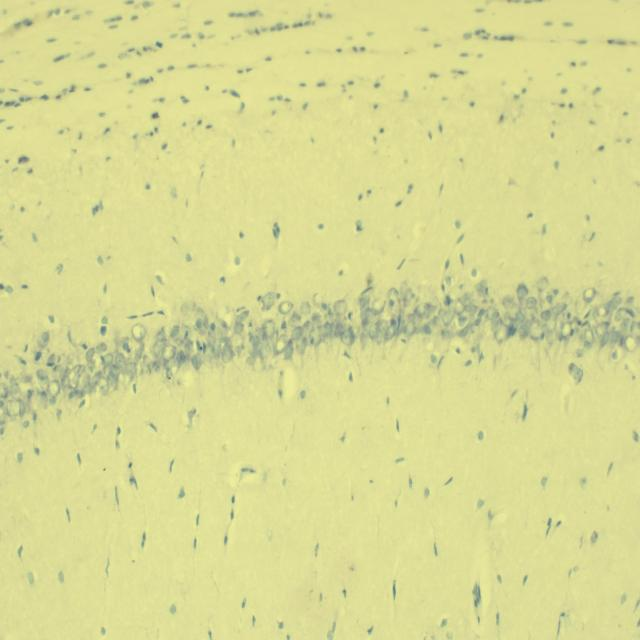neuron: (386, 287, 402, 317), (260, 336, 275, 363), (607, 326, 620, 351), (624, 333, 640, 353), (124, 358, 139, 379), (274, 334, 289, 355), (375, 322, 388, 346), (364, 307, 378, 329), (494, 323, 509, 343), (46, 380, 62, 398), (231, 332, 244, 354), (106, 370, 118, 393), (252, 351, 264, 374), (131, 323, 146, 341), (262, 291, 276, 310), (371, 296, 385, 315), (115, 352, 126, 376), (204, 325, 216, 347), (529, 318, 541, 340), (138, 361, 153, 378), (459, 324, 474, 341), (216, 321, 227, 344), (162, 344, 176, 362), (221, 342, 233, 363), (250, 327, 262, 348), (452, 299, 466, 317), (507, 303, 521, 321), (569, 362, 583, 380), (595, 320, 609, 338), (68, 370, 80, 390), (296, 337, 308, 357), (309, 325, 321, 345), (333, 300, 348, 316), (432, 314, 442, 338), (576, 292, 586, 316), (262, 320, 276, 337), (341, 328, 354, 346), (61, 368, 72, 389), (6, 399, 18, 418), (301, 320, 313, 339), (415, 302, 430, 317), (36, 375, 50, 391), (490, 316, 503, 333), (98, 376, 110, 394), (284, 338, 293, 362), (549, 304, 567, 316), (560, 321, 572, 339), (181, 300, 195, 315), (235, 310, 250, 324), (278, 300, 293, 314), (465, 301, 479, 316), (629, 320, 640, 339), (157, 326, 170, 342), (311, 292, 324, 308), (440, 328, 456, 341), (192, 353, 204, 370), (196, 307, 208, 324), (332, 322, 344, 339), (384, 324, 396, 341), (545, 316, 557, 333), (442, 296, 456, 310), (614, 307, 628, 321), (442, 311, 455, 326), (404, 321, 416, 337), (476, 280, 488, 296), (176, 350, 186, 369), (10, 383, 21, 400), (517, 284, 528, 301), (290, 327, 304, 340), (535, 277, 549, 290), (596, 304, 609, 318), (122, 371, 134, 386), (169, 361, 179, 379), (212, 338, 221, 358), (289, 312, 301, 327), (369, 321, 379, 339), (403, 288, 412, 308), (502, 294, 514, 309), (545, 329, 557, 344), (38, 332, 49, 348), (109, 364, 120, 380), (400, 280, 408, 302), (86, 361, 96, 378), (584, 328, 594, 345), (299, 301, 312, 314), (486, 307, 499, 320), (540, 300, 553, 313), (360, 332, 368, 353), (584, 288, 596, 302), (538, 288, 550, 302), (169, 325, 180, 340), (184, 339, 193, 357), (323, 320, 332, 338), (52, 364, 62, 380), (330, 319, 338, 339), (518, 322, 528, 338), (74, 364, 86, 377), (101, 353, 114, 365), (358, 295, 370, 308), (619, 318, 631, 331), (0, 382, 9, 399), (46, 351, 55, 368), (24, 400, 34, 415), (92, 371, 102, 386), (18, 399, 26, 417), (526, 297, 538, 309), (609, 296, 621, 308), (233, 322, 244, 335), (310, 312, 321, 325), (41, 390, 48, 410), (0, 408, 8, 425), (96, 342, 108, 353), (421, 324, 432, 336), (524, 312, 536, 323), (142, 353, 152, 366), (601, 331, 609, 347), (570, 316, 578, 332), (152, 344, 161, 358), (362, 318, 369, 336), (36, 369, 48, 379), (86, 348, 94, 363), (515, 311, 523, 326), (540, 310, 552, 320), (573, 347, 585, 357), (135, 346, 142, 362), (122, 337, 130, 351), (406, 312, 416, 323), (582, 340, 592, 351), (42, 332, 49, 343), (48, 396, 56, 405)
